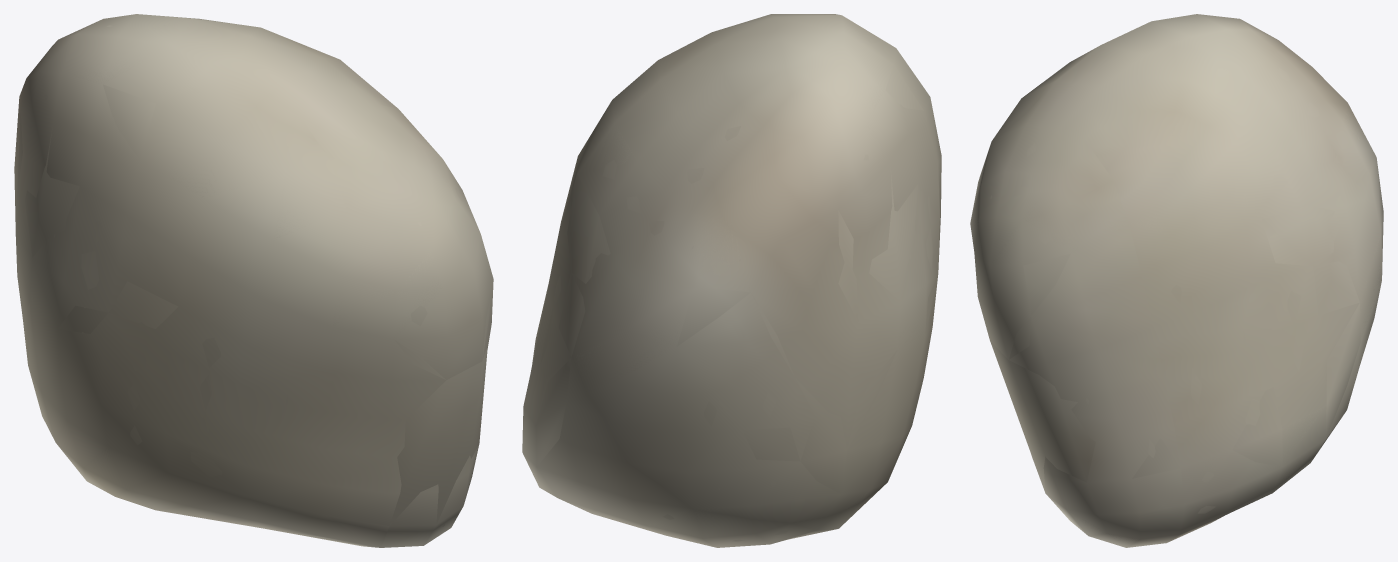
Rendered from L carpale secundum.fbx.
The picture shows the model from 3 angles, left to right: view 1: azimuth 30°, elevation 25°; view 2: azimuth 150°, elevation 25°; view 3: azimuth 270°, elevation 25°; orthographic projection. The views are drawn at different scales.
Visible parts, largest first — view 1: L carpale secundum, L carpale secundum low, L carpale secundum high; view 2: L carpale secundum, L carpale secundum low, L carpale secundum high; view 3: L carpale secundum, L carpale secundum low, L carpale secundum high.
Part boxes in pixels (x1,y1,x2,y2): L carpale secundum: [14, 14, 493, 547]; L carpale secundum low: [15, 18, 493, 547]; L carpale secundum high: [26, 25, 463, 526]; L carpale secundum: [522, 14, 941, 547]; L carpale secundum low: [522, 14, 940, 547]; L carpale secundum high: [531, 39, 939, 541]; L carpale secundum: [970, 14, 1383, 547]; L carpale secundum low: [971, 14, 1383, 546]; L carpale secundum high: [990, 23, 1359, 528].
Bounding box in the file's own units: 0.3385 × 0.4446 × 0.3871.
1 material, 1 textured.
